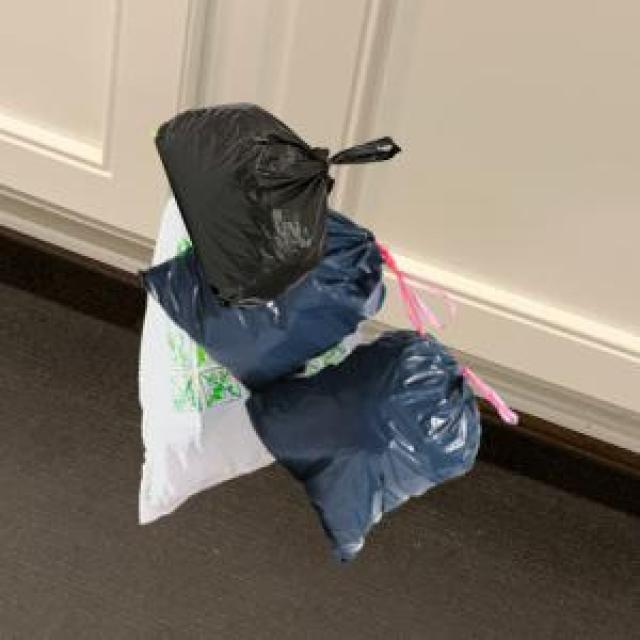miscellaneous trash: (134, 205, 512, 561), (152, 98, 397, 305)
